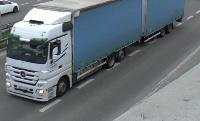car: (0, 1, 19, 16)
truck: (4, 1, 184, 102)
